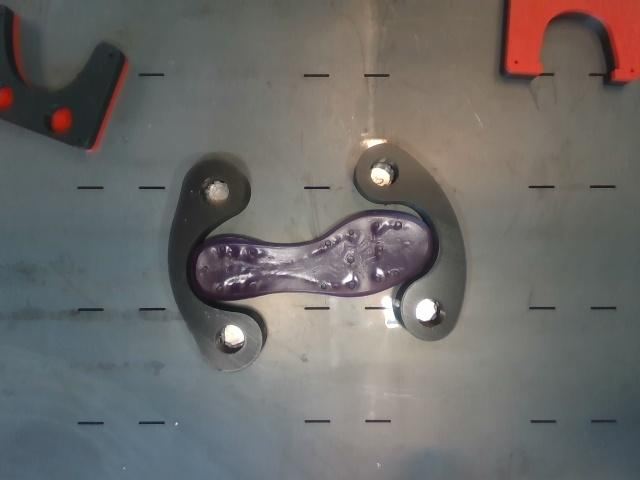shoes: (187, 211, 432, 300)
